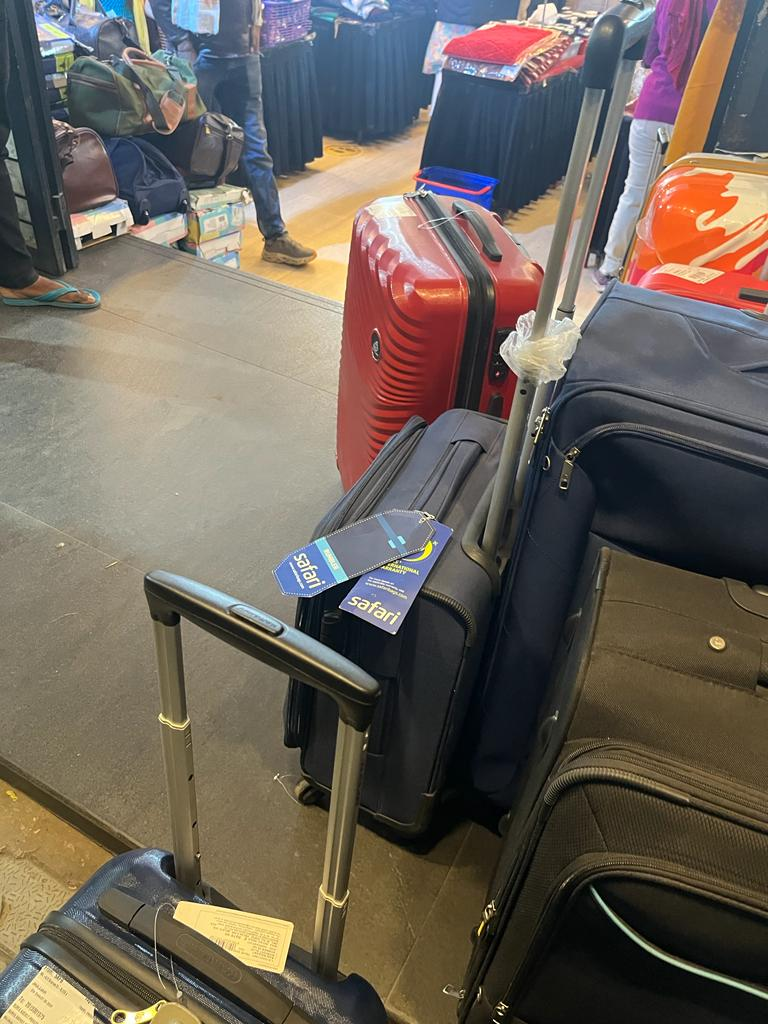Bag: (296, 0, 639, 835), (1, 562, 399, 1024), (463, 544, 768, 1024), (323, 174, 554, 500)
Handle: (122, 553, 411, 1018), (468, 0, 659, 585)
